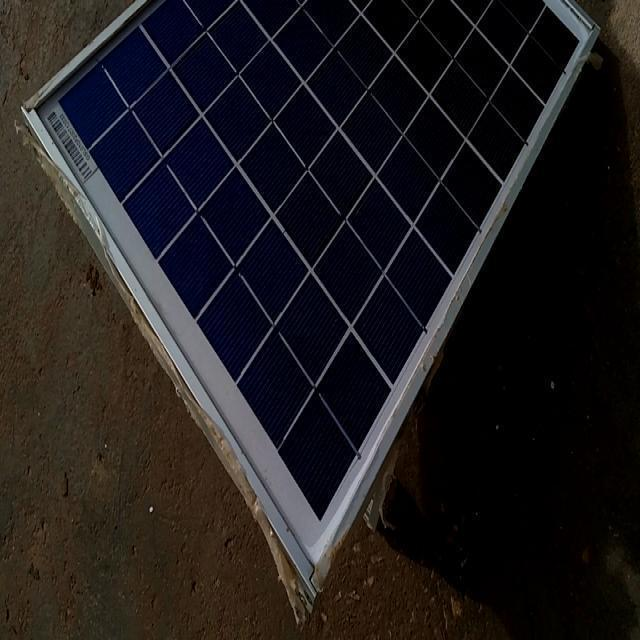Normal Solar Panel: (26, 0, 599, 595)
